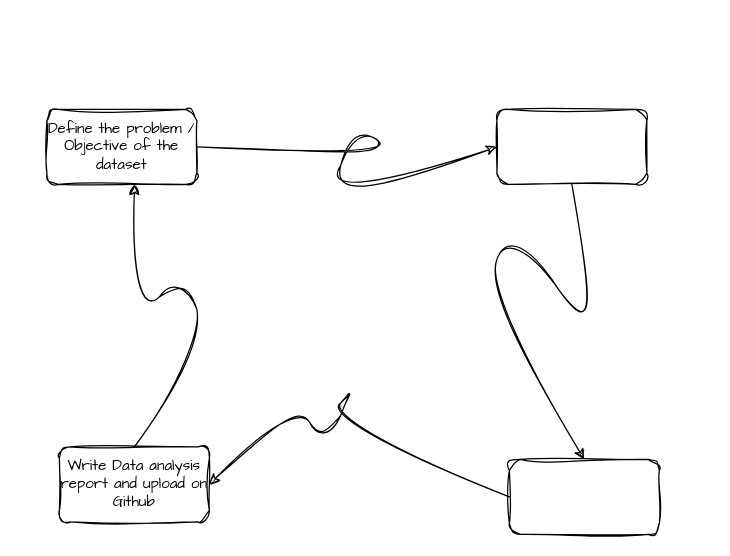
This 730x556 diagram has some shape labels left out. The shapes that lost their labels are listed below. From the top down, each one's centre as x and y in pixels, then its label:
the point at 571,146: Load and Initial Inspection
the point at 583,496: Exploratory Data Analysis (Time Analysis and Correlational studies)
